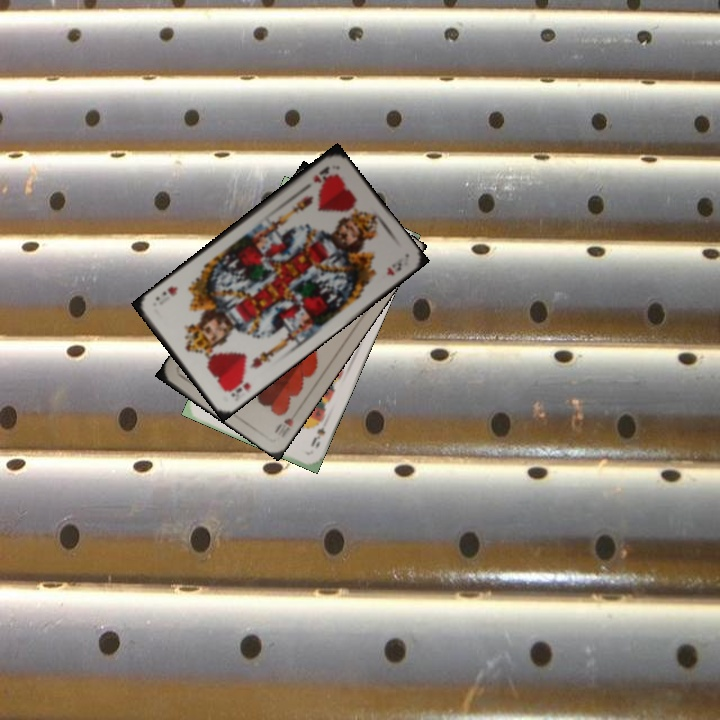H10: (270, 405, 302, 440)
HK: (221, 373, 253, 400), (309, 162, 335, 186)
S9: (306, 415, 328, 450)
